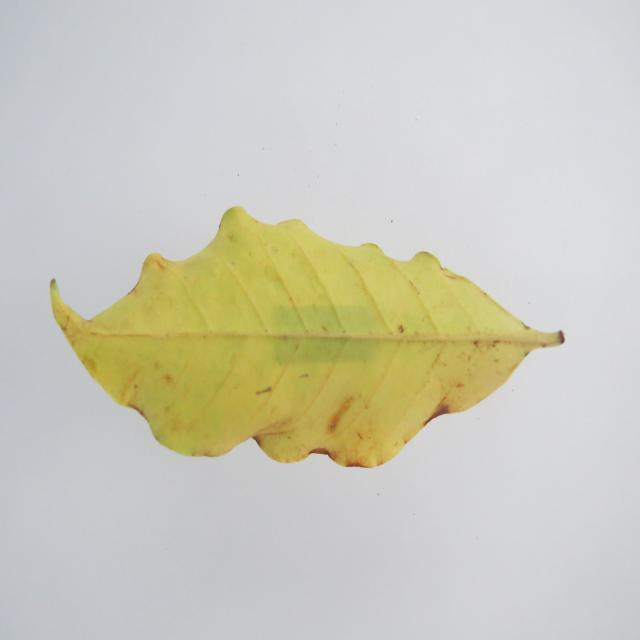DeficienciaNutricional-Calcio: (50, 207, 564, 467)
